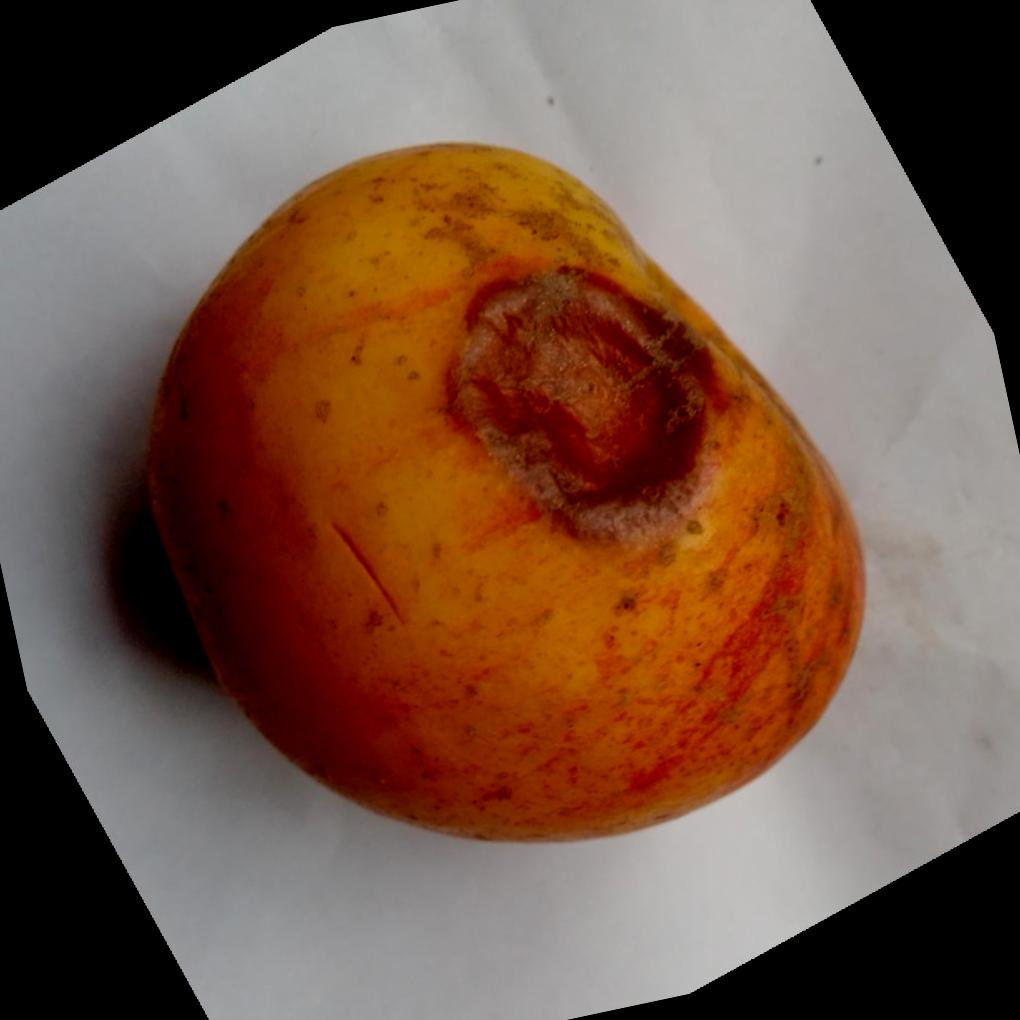FreshOrange: (147, 142, 866, 848)
